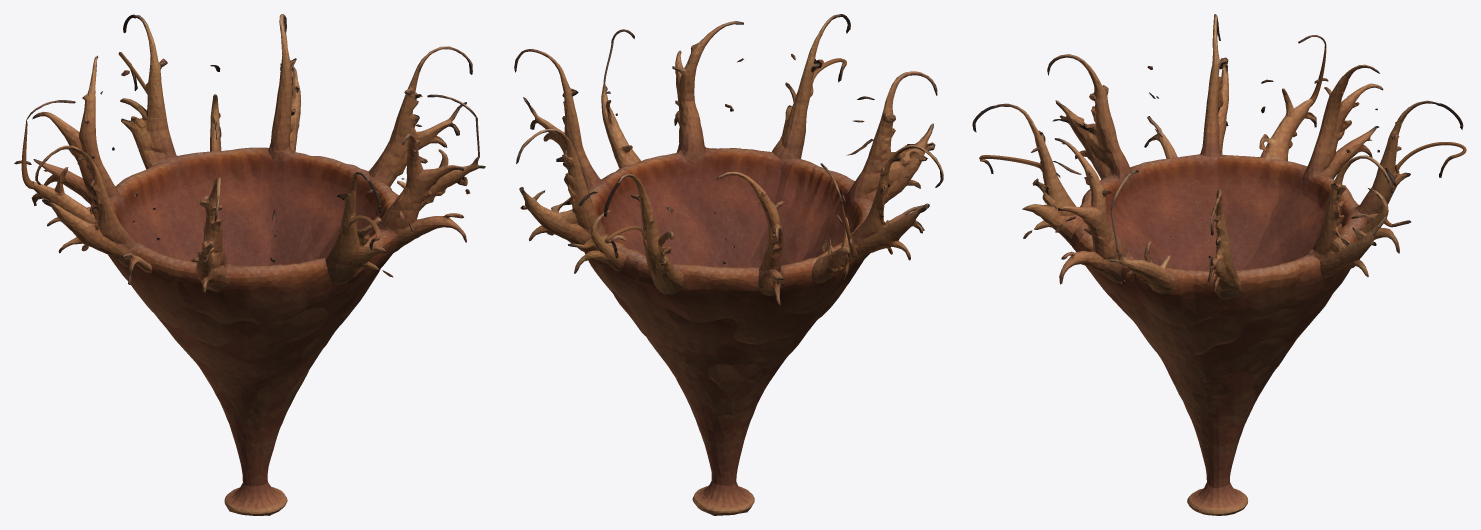
Rendered from model-no-index-0395510b.glb.
3 renders of one model, left to right at view 1: azimuth 30°, elevation 25°; view 2: azimuth 150°, elevation 25°; view 3: azimuth 270°, elevation 25°, orthographic. The views are drawn at different scales.
Parts seen in each view (by area): view 1: Unexported wider side4 turn trial; view 2: Unexported wider side4 turn trial; view 3: Unexported wider side4 turn trial.
Part boxes in pixels (x1,y1,x2,y2): Unexported wider side4 turn trial: (14,14,485,515); Unexported wider side4 turn trial: (514,14,943,515); Unexported wider side4 turn trial: (972,14,1466,515).
Bounding box in the file's own units: 0.9986 × 0.9232 × 1.01.
1 material, 1 textured.
